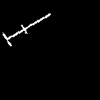double_crochet: (3, 14, 50, 45)
